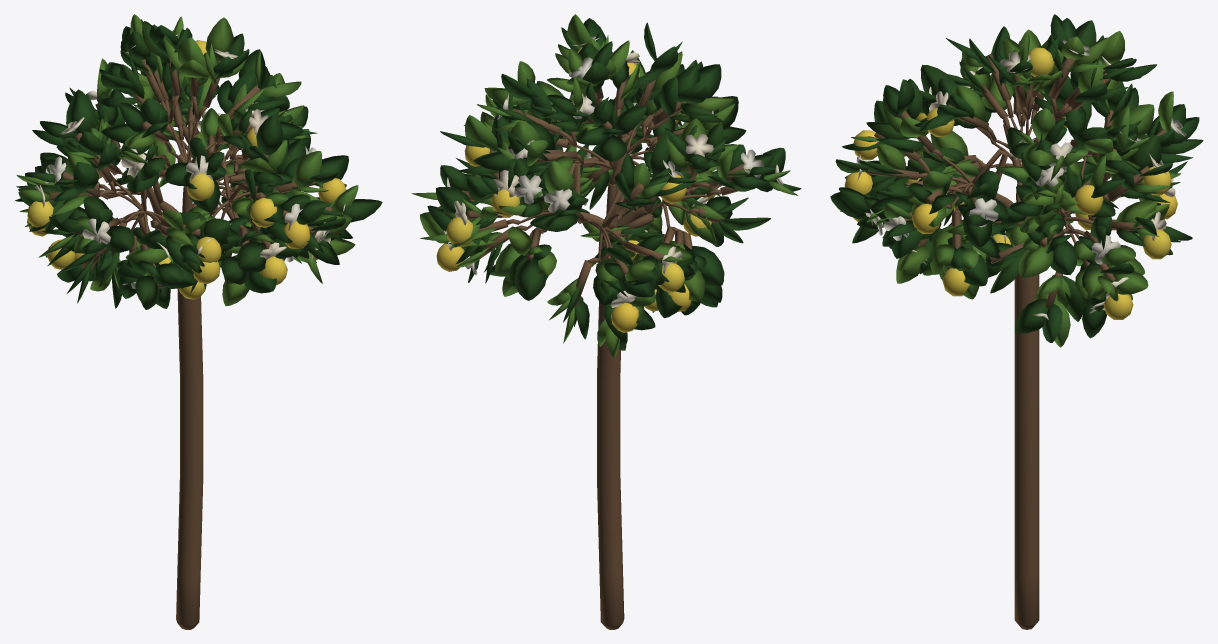
The model's file is potfill_citrus.glb.
3 views of the same model, side by side, from view 1: azimuth 30°, elevation 25°; view 2: azimuth 150°, elevation 25°; view 3: azimuth 270°, elevation 25° (orthographic).
Parts seen in each view (by area): view 1: Sammel Pflanze, Sammel Holz; view 2: Sammel Pflanze, Sammel Holz; view 3: Sammel Pflanze, Sammel Holz.
Boxes of the visible parts, left/top/right/bottom form: Sammel Pflanze: left=15, top=14, right=382, bottom=309; Sammel Holz: left=49, top=57, right=331, bottom=629; Sammel Pflanze: left=411, top=14, right=801, bottom=357; Sammel Holz: left=460, top=66, right=744, bottom=629; Sammel Pflanze: left=830, top=14, right=1203, bottom=347; Sammel Holz: left=867, top=54, right=1165, bottom=629.
Bounding box in the file's own units: 0.5966 × 1.1 × 0.6063.
